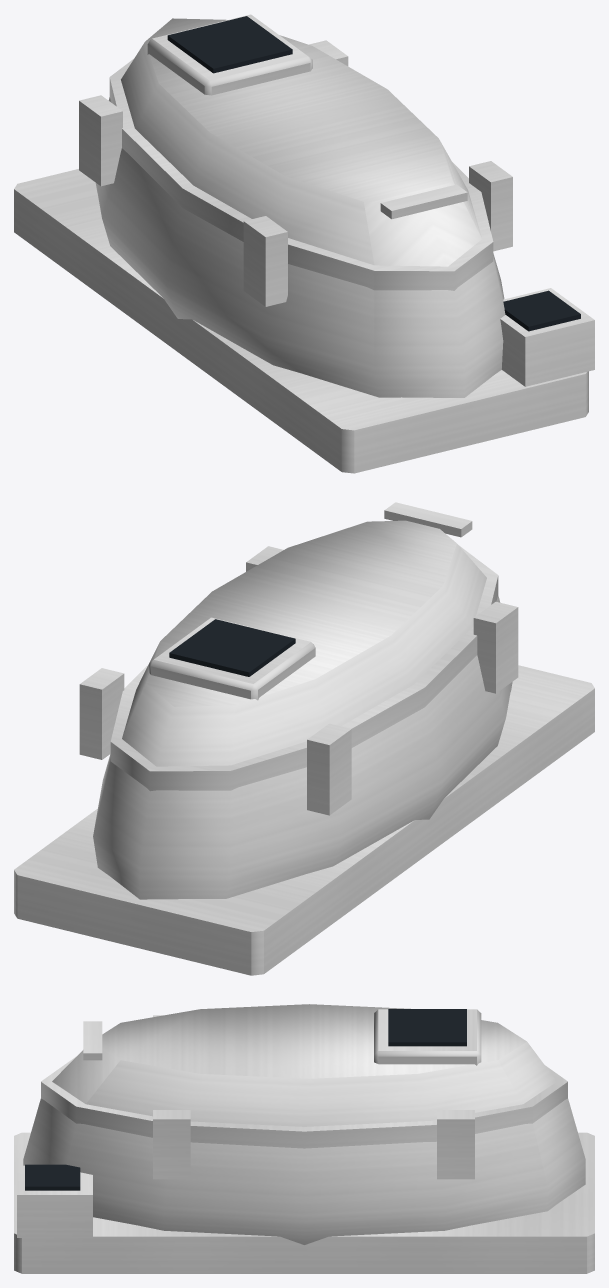
File: ancient_cryptosleep_pod.obj
3 views of the same model, one above another, from view 1: azimuth 30°, elevation 25°; view 2: azimuth 150°, elevation 25°; view 3: azimuth 270°, elevation 25° (orthographic). The views are drawn at different scales.
Parts seen in each view (by area): view 1: retained_124, retained_12, pod_base, retained_80, retained_240, top_control_housing, retained_180, retained_192, retained_204, retained_216, retained_252, retained_264; view 2: retained_124, retained_12, pod_base, retained_80, top_control_housing, retained_180, retained_204, retained_192, retained_228, retained_264; view 3: retained_12, retained_124, pod_base, retained_80, retained_240, top_control_housing, retained_180, retained_216, retained_228, retained_252, retained_264.
Boxes of the visible parts, <box> form: retained_124: <box>121,18,481,266</box>; retained_12: <box>95,97,505,397</box>; pod_base: <box>14,169,588,473</box>; retained_80: <box>109,59,493,290</box>; retained_240: <box>500,288,594,386</box>; top_control_housing: <box>147,14,312,95</box>; retained_180: <box>167,16,292,73</box>; retained_192: <box>243,216,287,306</box>; retained_204: <box>79,95,122,186</box>; retained_216: <box>469,161,512,251</box>; retained_252: <box>503,290,580,331</box>; retained_264: <box>380,184,467,219</box>; retained_124: <box>122,520,486,766</box>; retained_12: <box>93,595,512,899</box>; pod_base: <box>14,665,594,975</box>; retained_80: <box>110,545,498,791</box>; top_control_housing: <box>149,617,315,700</box>; retained_180: <box>169,619,295,676</box>; retained_204: <box>307,723,351,815</box>; retained_192: <box>473,601,518,693</box>; retained_228: <box>79,668,124,759</box>; retained_264: <box>384,502,472,537</box>; retained_12: <box>23,1098,585,1244</box>; retained_124: <box>52,1004,556,1126</box>; pod_base: <box>14,1132,594,1273</box>; retained_80: <box>41,1056,567,1148</box>; retained_240: <box>17,1165,92,1237</box>; top_control_housing: <box>374,1009,481,1065</box>; retained_180: <box>388,1009,466,1046</box>; retained_216: <box>153,1110,190,1179</box>; retained_228: <box>437,1110,474,1179</box>; retained_252: <box>25,1164,80,1190</box>; retained_264: <box>83,1021,102,1060</box>.
Bounding box in the file's own units: 0.86 × 0.685 × 1.84.
